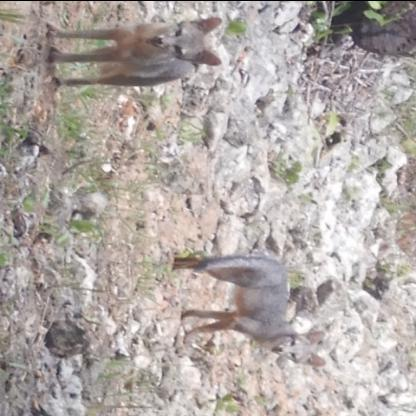zorro: (173, 250, 327, 365), (41, 13, 228, 95)
